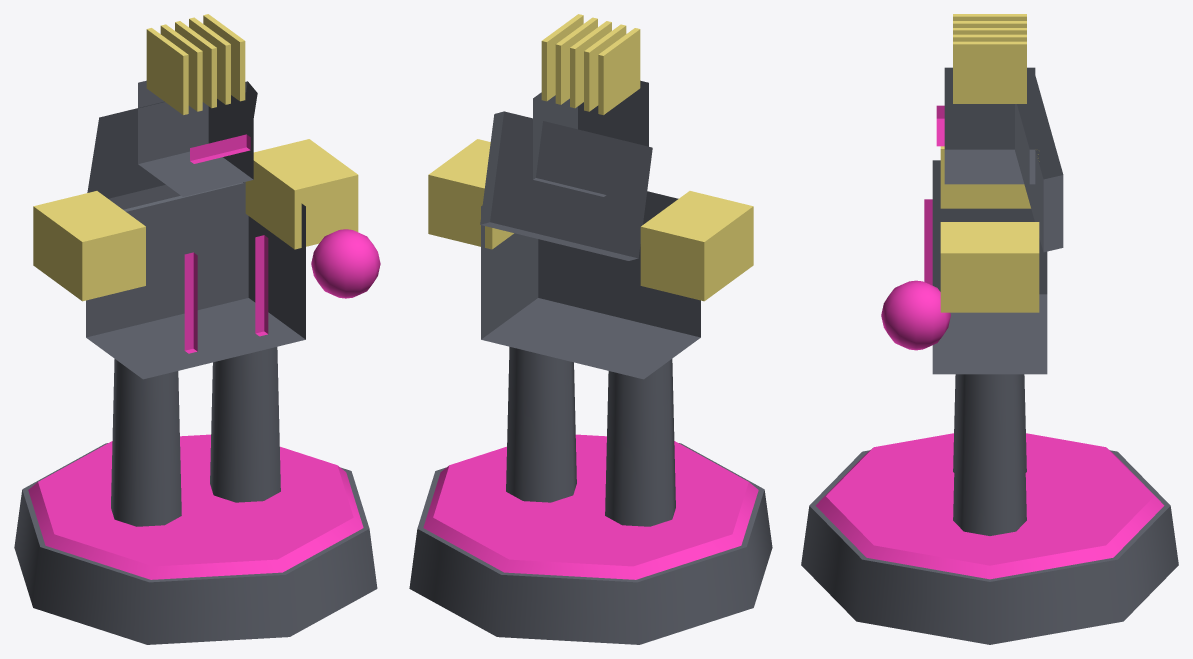
The model's file is cyber_king.glb.
The picture shows the model from 3 angles, left to right: view 1: azimuth 30°, elevation 25°; view 2: azimuth 150°, elevation 25°; view 3: azimuth 270°, elevation 25°; orthographic projection.
Parts seen in each view (by area): view 1: cyber_king; view 2: cyber_king; view 3: cyber_king.
Part boxes in pixels (x1,y1,x2,y2): cyber_king: [14, 14, 380, 644]; cyber_king: [409, 14, 772, 644]; cyber_king: [801, 14, 1178, 644].
Bounding box in the file's own units: 0.92 × 1.44 × 0.92.
